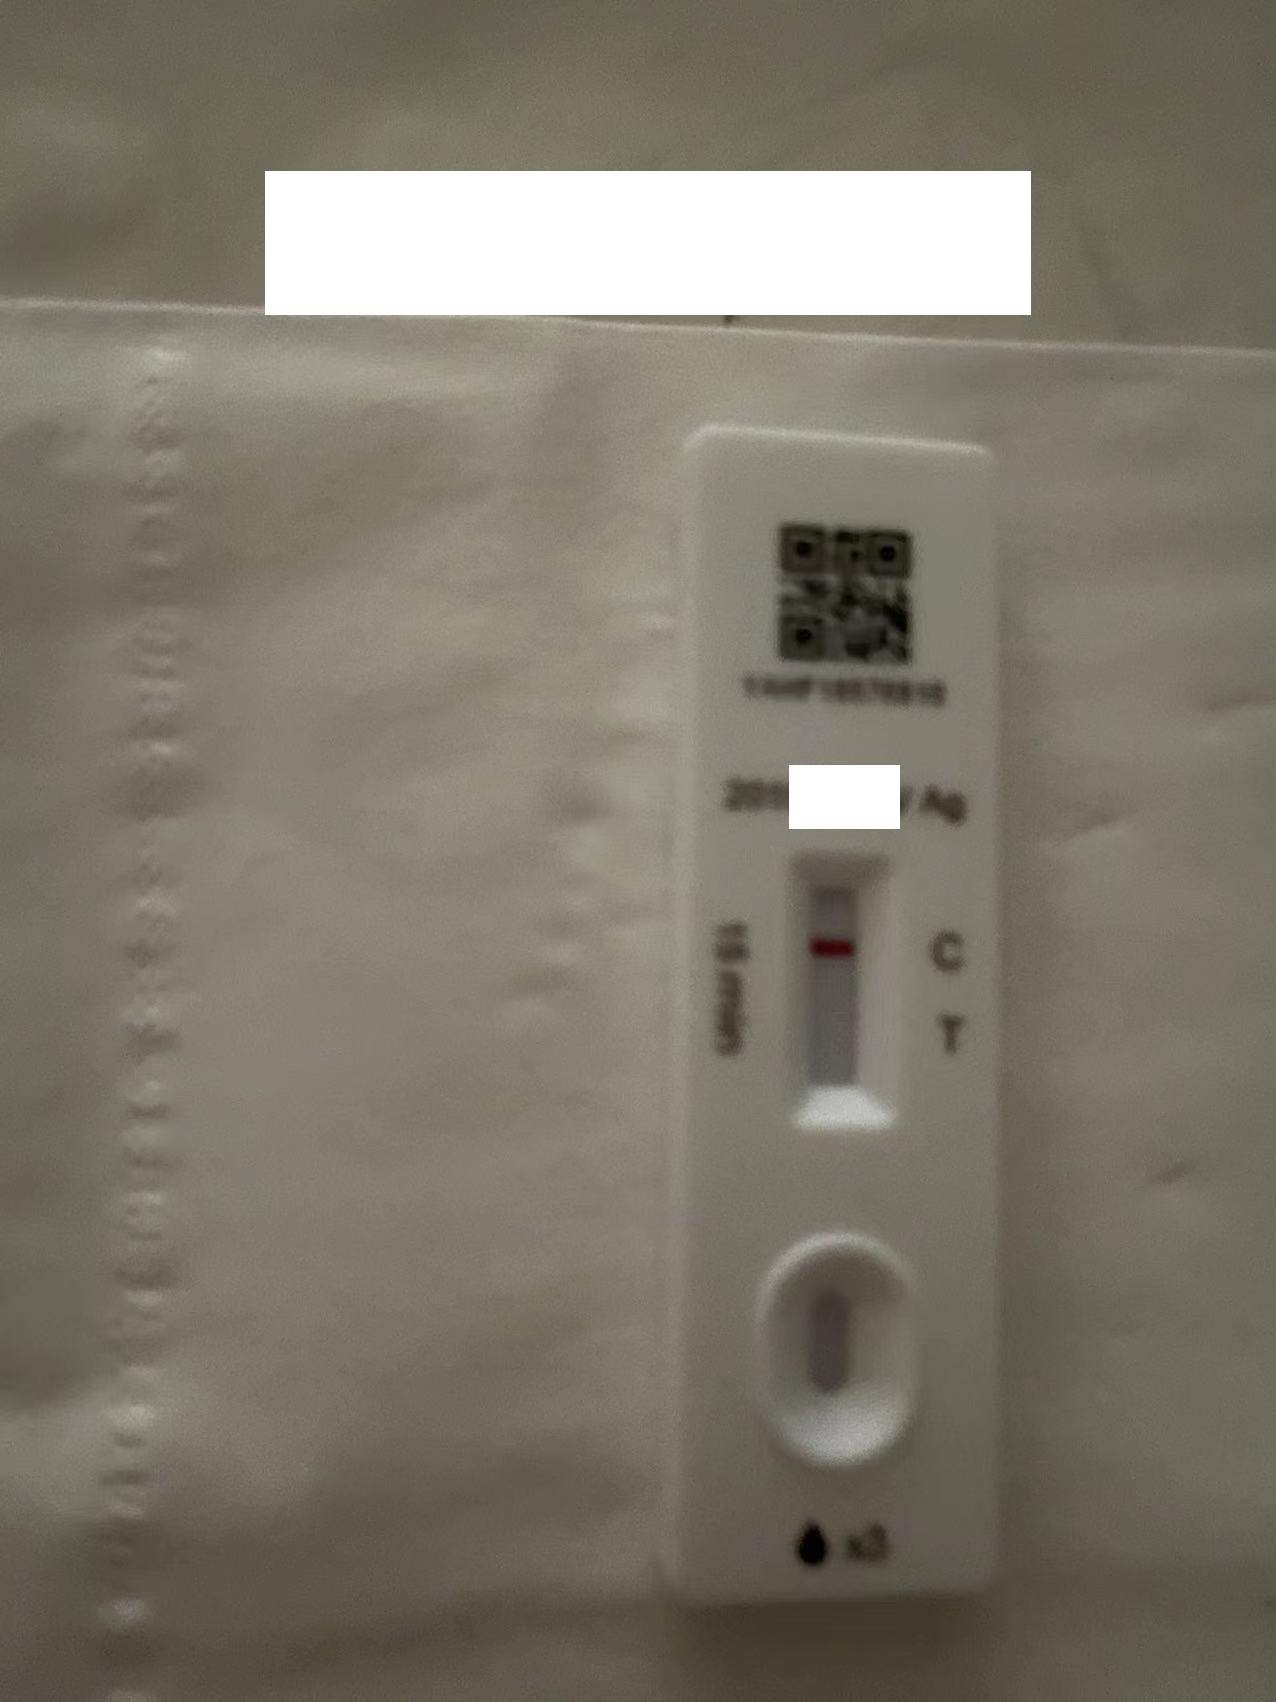negative: (789, 856, 881, 1115)
